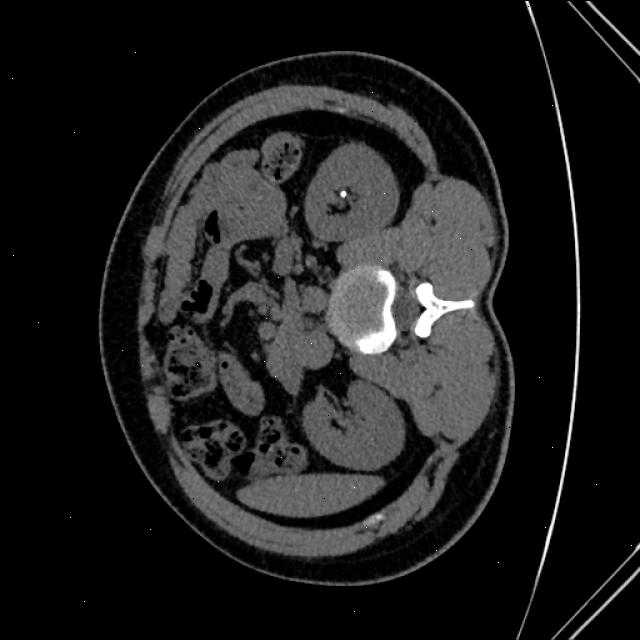kidneystone: (341, 191, 347, 198)
